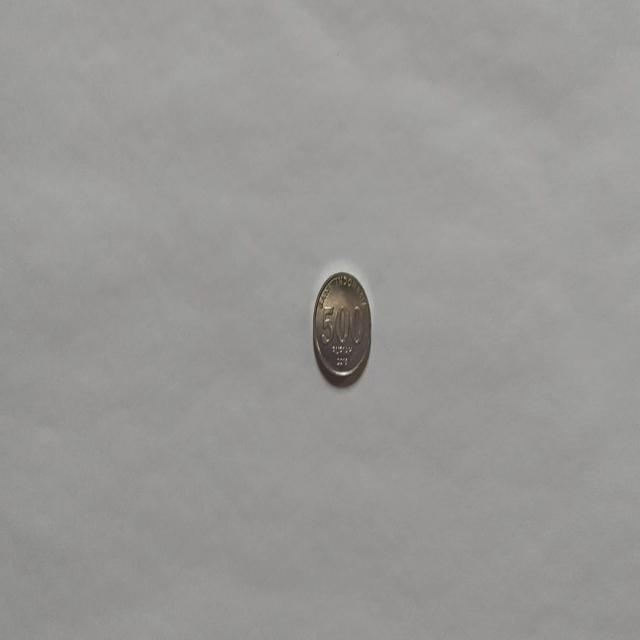lima ratus rupiah: (312, 269, 372, 383)
